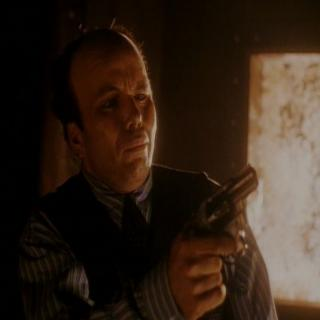gun: (176, 151, 260, 272)
